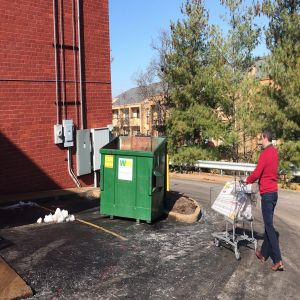Dumpster: (96, 132, 171, 230)
Person: (240, 127, 289, 272)
